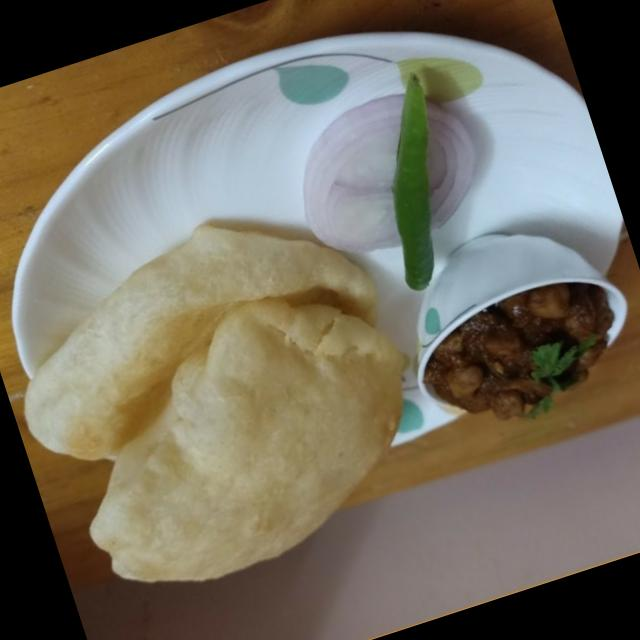Bhatura: (0, 176, 450, 622)
